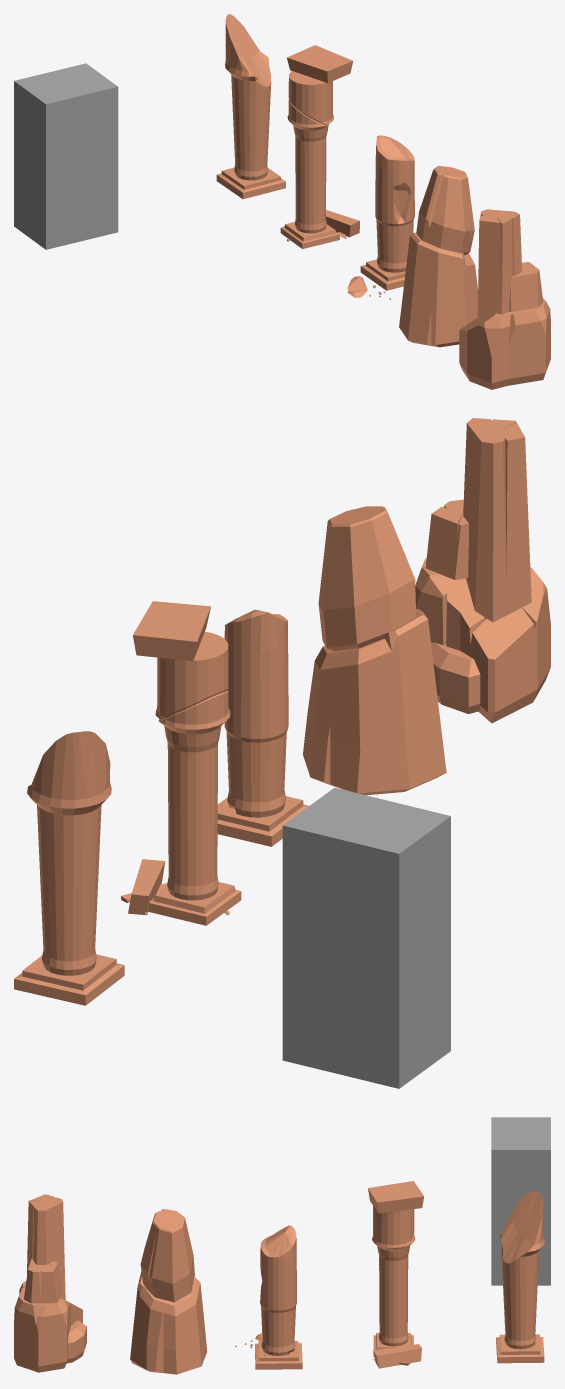
Rendered from run_obstacle.fbx.
3 renders of one model, top to bottom at view 1: azimuth 30°, elevation 25°; view 2: azimuth 150°, elevation 25°; view 3: azimuth 270°, elevation 25°, orthographic. The views are drawn at different scales.
Visible parts, largest first — view 1: run_obstacle_dummy, run_obstacle_E, run_obstacle_D, run_obstacle_B, run_obstacle_A, run_obstacle_C; view 2: run_obstacle_dummy, run_obstacle_D, run_obstacle_E, run_obstacle_B, run_obstacle_A, run_obstacle_C; view 3: run_obstacle_D, run_obstacle_E, run_obstacle_dummy, run_obstacle_B, run_obstacle_A, run_obstacle_C.
Part boxes in pixels (left/top/right/bottom): run_obstacle_dummy: left=14, top=63, right=118, bottom=249; run_obstacle_E: left=459, top=209, right=550, bottom=389; run_obstacle_D: left=399, top=166, right=477, bottom=347; run_obstacle_B: left=280, top=45, right=359, bottom=248; run_obstacle_A: left=216, top=14, right=285, bottom=199; run_obstacle_C: left=347, top=135, right=414, bottom=299; run_obstacle_dummy: left=282, top=787, right=450, bottom=1088; run_obstacle_D: left=303, top=506, right=446, bottom=795; run_obstacle_E: left=415, top=418, right=550, bottom=723; run_obstacle_B: left=121, top=601, right=241, bottom=925; run_obstacle_A: left=14, top=731, right=124, bottom=1005; run_obstacle_C: left=217, top=609, right=308, bottom=846; run_obstacle_D: left=130, top=1209, right=207, bottom=1374; run_obstacle_E: left=14, top=1194, right=86, bottom=1372; run_obstacle_dummy: left=491, top=1117, right=550, bottom=1285; run_obstacle_B: left=368, top=1181, right=424, bottom=1368; run_obstacle_A: left=496, top=1191, right=544, bottom=1363; run_obstacle_C: left=235, top=1225, right=302, bottom=1369.
Bounding box in the file's own units: 942 × 627 × 1801.
